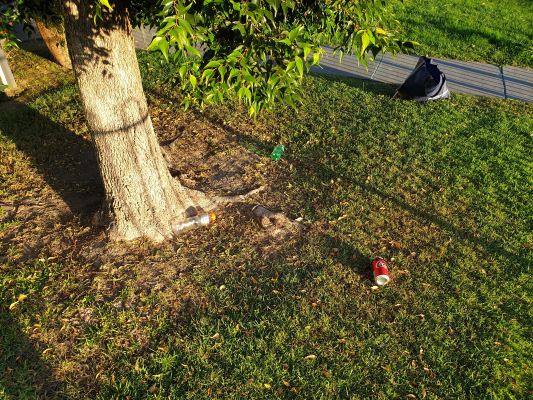Plastic Bottle: (172, 213, 216, 234), (372, 257, 390, 286), (271, 144, 284, 161)
